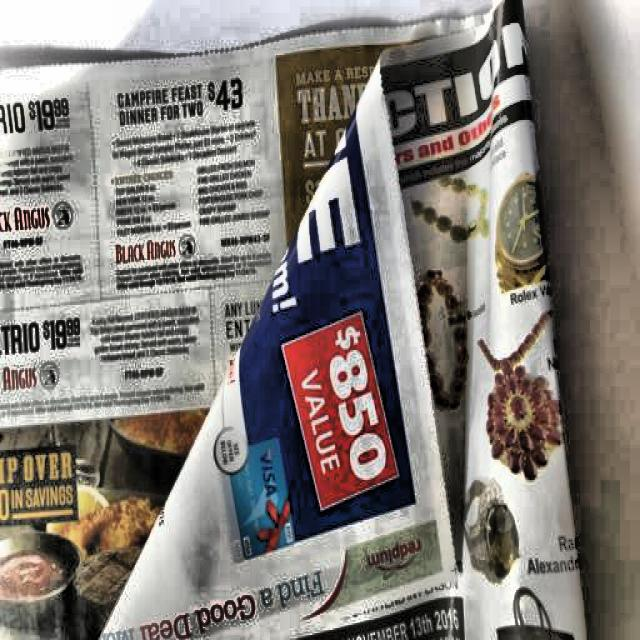paper: (2, 6, 592, 640)
